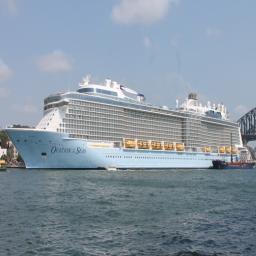cruises: (3, 73, 249, 175)
